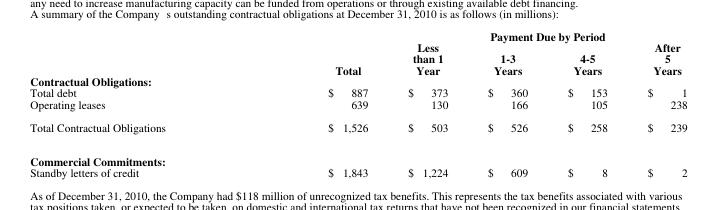table: (29, 28, 686, 179)
table column: (29, 28, 246, 179), (246, 28, 387, 179), (387, 28, 467, 179), (467, 28, 547, 179), (547, 28, 626, 179), (626, 28, 686, 179)
table column header: (29, 28, 686, 75)
table projected row header: (29, 143, 686, 167), (29, 75, 686, 87)
table row: (29, 41, 686, 75), (29, 115, 686, 143), (29, 143, 686, 167), (29, 98, 686, 115), (29, 28, 686, 41), (29, 75, 686, 87), (29, 167, 686, 179), (29, 87, 686, 98)
table spanning cell: (246, 28, 387, 75), (387, 28, 686, 41)
